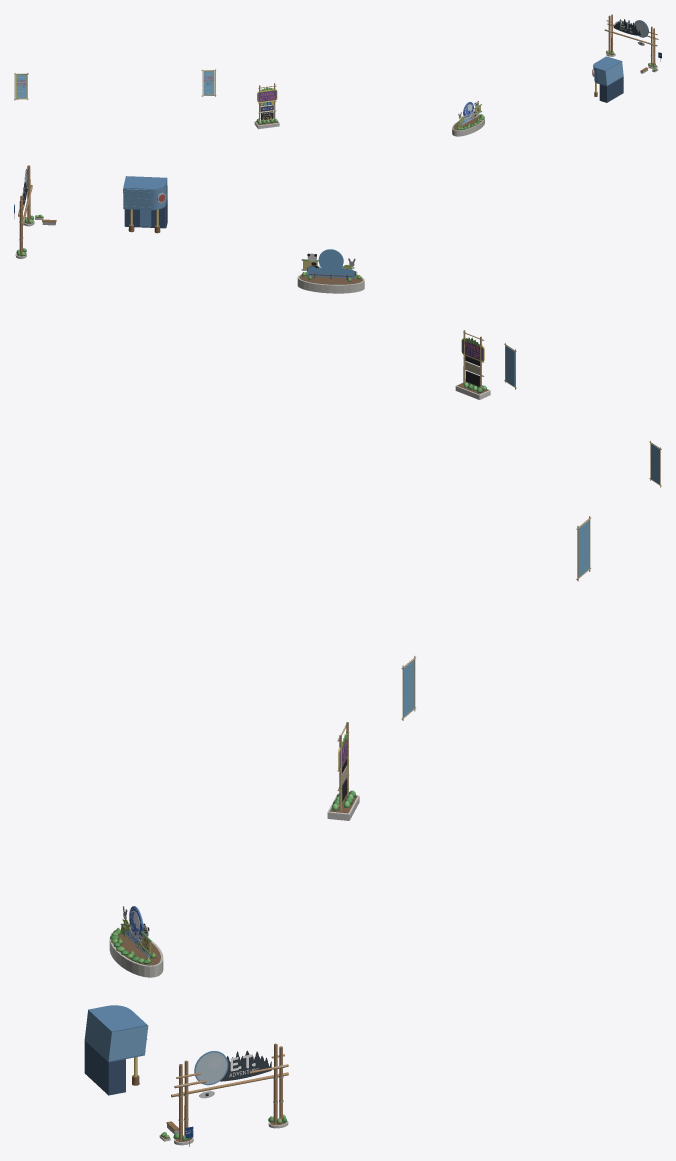
File: dreamworks-sign.glb
3 renders of one model, top to bottom at view 1: azimuth 30°, elevation 25°; view 2: azimuth 150°, elevation 25°; view 3: azimuth 270°, elevation 25°, orthographic. The views are drawn at different scales.
Parts seen in each view (by area): view 1: dreamworks-sign-paint, dreamworks-sign-letters, dreamworks-sign-concrete, dreamworks-sign-plant; view 2: dreamworks-sign-paint, dreamworks-sign-concrete, dreamworks-sign-plant; view 3: dreamworks-sign-paint, dreamworks-sign-plant, dreamworks-sign-concrete.
Boxes of the visible parts, box(x1,y1,x2,y2) form: dreamworks-sign-paint: box(14, 14, 661, 125); dreamworks-sign-letters: box(16, 20, 661, 123); dreamworks-sign-concrete: box(254, 53, 658, 136); dreamworks-sign-plant: box(256, 50, 657, 130); dreamworks-sign-paint: box(14, 165, 661, 487); dreamworks-sign-concrete: box(15, 216, 490, 399); dreamworks-sign-plant: box(16, 214, 488, 394); dreamworks-sign-paint: box(84, 516, 591, 1140); dreamworks-sign-plant: box(110, 790, 357, 1141); dreamworks-sign-concrete: box(109, 793, 359, 1145).
Bounding box in the file's own units: 106 × 10.28 × 42.32.
